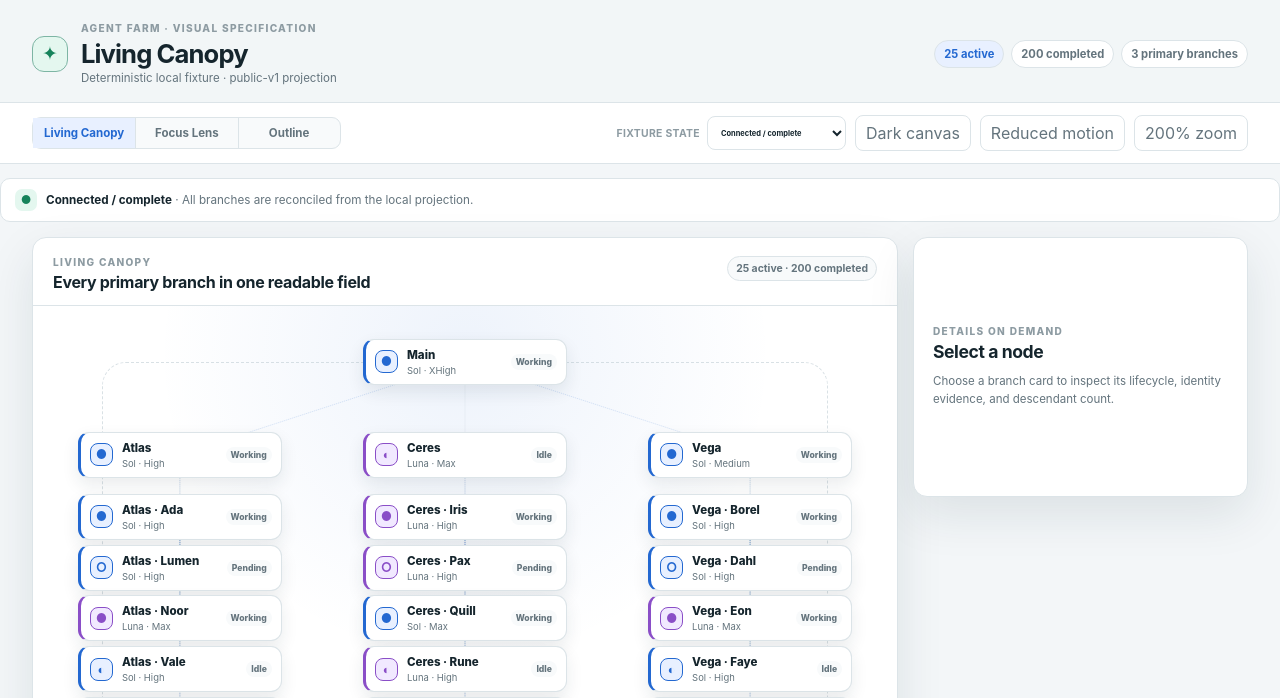
G6 code-native visual specification › renders Living Canopy as the primary surface with readable state shapes and clusters
Check: the heading "Living Canopy" is shown, box [81,38,248,69]
Check: the text "25 active" is shown, box [934,40,1004,68]
Click the button with aria-label "Atlas,": coordinates (180, 455) [78,432,282,478]
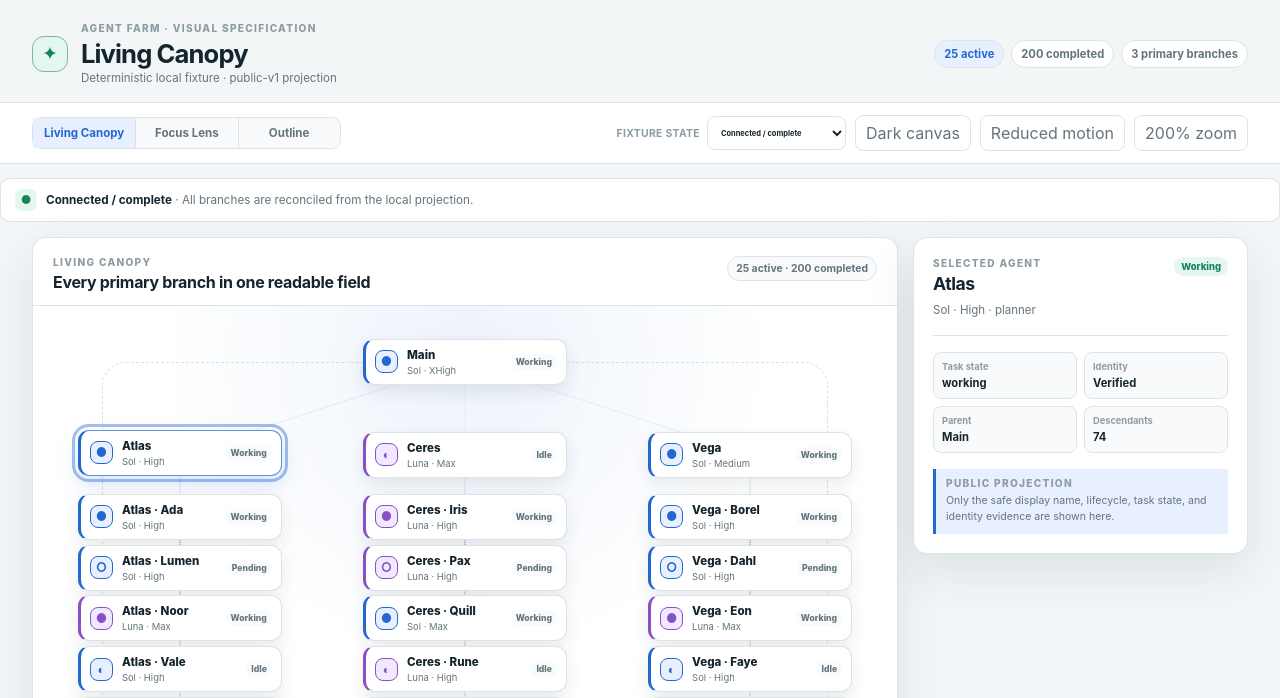
Check: the element named "Details for Atlas" is shown, box [913,237,1248,554]
Check: the text "Verified" is shown, box [1093,376,1136,390]
